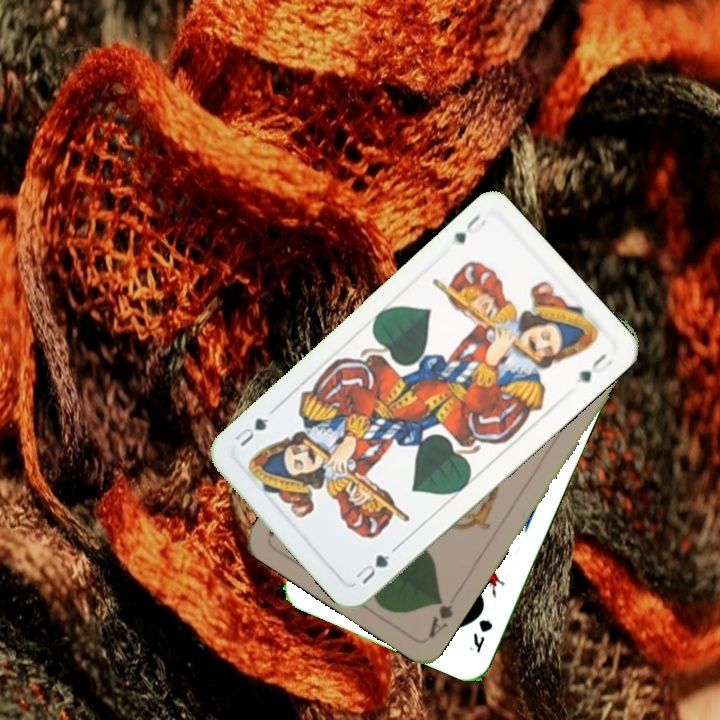GA: (424, 593, 456, 641)
GK: (464, 613, 495, 656)
GU: (447, 209, 489, 248), (351, 550, 393, 587)
